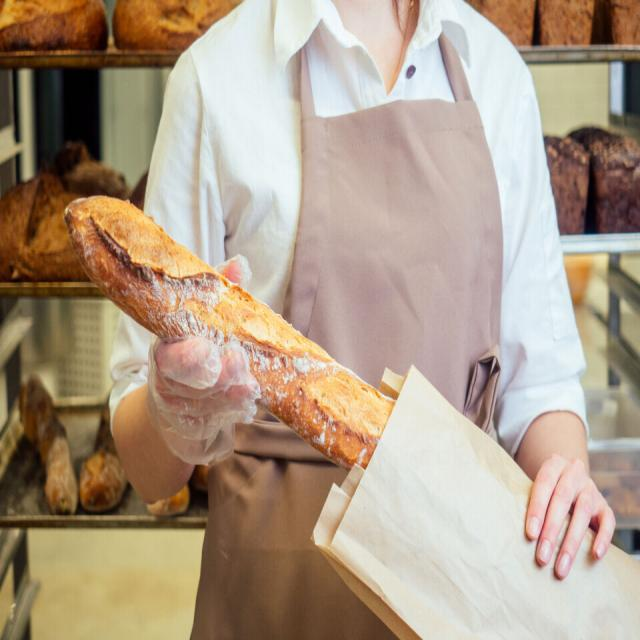Baguette: (64, 196, 395, 469)
